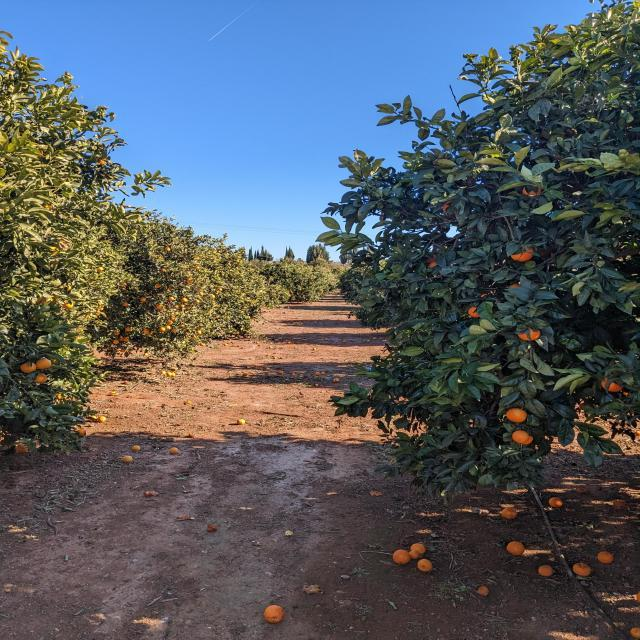Jeruk Sudah Matang: (510, 246, 534, 262), (600, 376, 624, 392), (505, 408, 527, 422), (392, 549, 410, 565), (507, 540, 525, 556), (518, 328, 541, 340), (573, 562, 592, 576), (442, 200, 458, 215), (512, 430, 529, 443), (522, 186, 544, 196), (538, 564, 554, 577), (418, 558, 432, 572), (502, 508, 518, 520), (409, 543, 426, 554), (36, 358, 52, 369), (600, 551, 614, 563), (21, 362, 36, 373), (36, 296, 54, 305), (32, 374, 48, 384), (468, 306, 481, 318), (550, 497, 564, 508), (40, 205, 56, 214), (476, 586, 489, 596), (520, 435, 532, 445), (631, 627, 640, 640), (16, 444, 28, 452), (63, 301, 74, 309), (408, 550, 419, 558), (49, 247, 59, 255), (122, 456, 132, 464), (428, 262, 438, 270), (428, 254, 438, 262), (36, 150, 44, 158), (54, 392, 61, 400), (77, 429, 85, 436), (170, 447, 178, 454), (51, 260, 60, 266), (98, 416, 107, 422), (89, 416, 98, 422), (98, 158, 106, 164), (510, 284, 522, 288), (125, 326, 132, 332), (156, 304, 164, 309), (144, 329, 152, 334), (97, 266, 103, 272), (66, 284, 72, 290), (120, 282, 127, 287), (132, 446, 140, 450), (164, 247, 170, 252), (160, 327, 166, 332), (123, 337, 129, 342), (170, 372, 176, 377), (110, 391, 116, 396), (168, 320, 173, 325), (200, 342, 205, 347), (155, 284, 161, 288), (181, 298, 187, 302), (140, 298, 146, 302), (174, 304, 180, 308), (122, 302, 128, 306), (94, 312, 100, 316), (84, 314, 90, 318), (113, 340, 119, 344), (166, 372, 172, 376), (194, 256, 199, 260), (162, 268, 166, 273), (194, 266, 199, 270), (187, 278, 192, 282), (169, 296, 174, 300), (197, 330, 202, 334), (120, 336, 124, 341), (161, 370, 166, 374), (114, 332, 120, 335), (120, 349, 126, 352), (158, 255, 162, 259), (187, 271, 191, 275), (166, 288, 170, 292), (199, 292, 203, 296), (211, 294, 215, 298), (180, 304, 184, 308), (186, 306, 190, 310), (98, 302, 102, 306), (172, 316, 176, 320), (166, 326, 170, 330), (180, 324, 184, 328), (218, 288, 222, 292), (178, 254, 182, 257), (196, 300, 200, 303), (96, 307, 100, 310), (162, 312, 166, 315), (172, 329, 176, 332), (120, 354, 124, 357), (224, 343, 228, 346), (108, 347, 111, 350), (145, 353, 148, 356), (100, 308, 104, 310), (174, 312, 178, 314), (128, 350, 132, 352), (220, 325, 224, 327), (235, 332, 239, 334), (287, 342, 291, 344), (312, 348, 316, 350), (324, 338, 328, 340), (269, 346, 273, 348), (138, 254, 141, 256), (169, 286, 172, 288), (237, 260, 240, 262), (243, 306, 246, 308), (251, 316, 254, 318), (212, 318, 215, 320), (246, 330, 249, 332), (256, 342, 259, 344), (274, 356, 276, 359), (214, 248, 216, 250), (252, 277, 254, 279), (234, 324, 236, 326), (268, 354, 270, 356), (225, 246, 228, 247)
